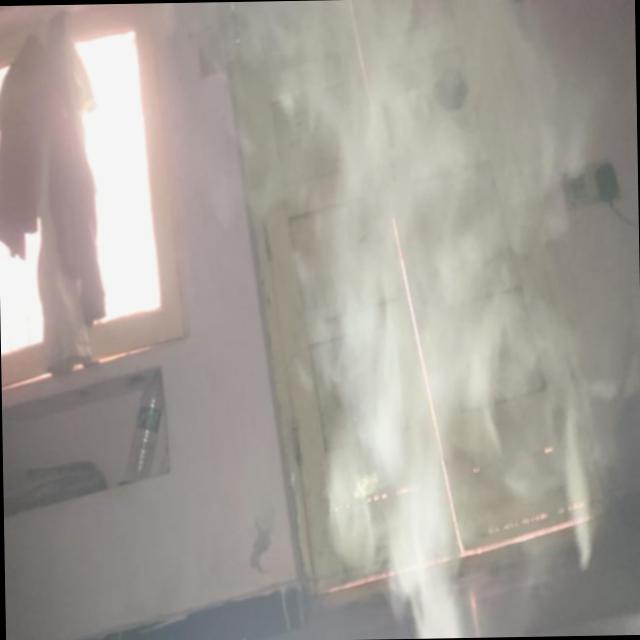smoke: (337, 153, 593, 604)
